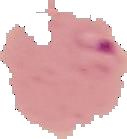parasitized: (72, 23, 123, 72)
